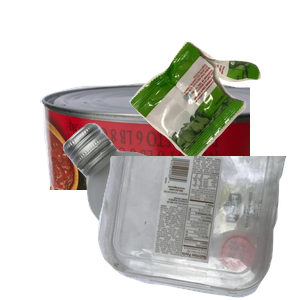glass: (60, 120, 300, 300)
metal: (37, 81, 277, 261)
plastic: (95, 156, 300, 300)
trash: (127, 39, 300, 193)
